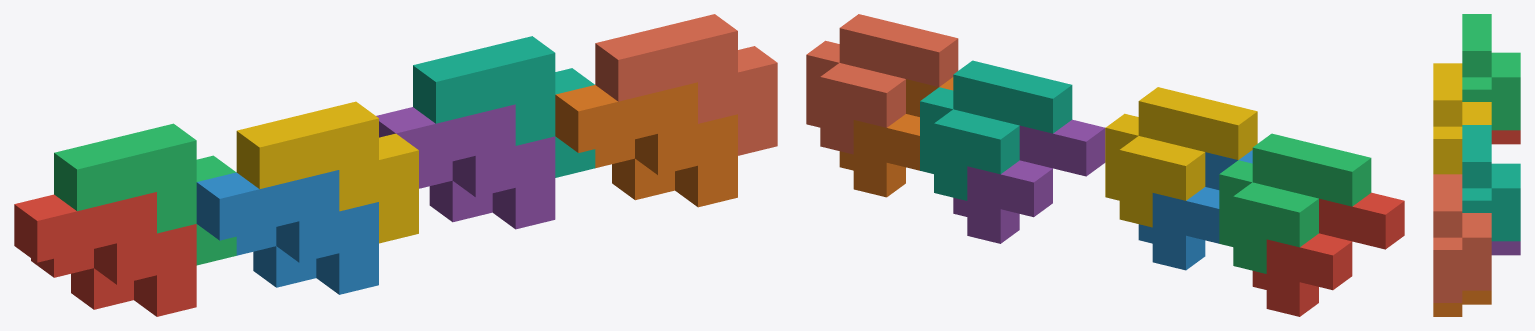
Rendered from tiling.obj.
The picture shows the model from 3 angles, left to right: view 1: azimuth 30°, elevation 25°; view 2: azimuth 150°, elevation 25°; view 3: azimuth 270°, elevation 25°; orthographic projection. The views are drawn at different scales.
Visible parts, largest first — view 1: copy_1_domain_1, copy_1_domain_2, copy_1_domain_6, copy_1_domain_4, copy_1_domain_8, copy_1_domain_5, copy_1_domain_7, copy_1_domain_3; view 2: copy_1_domain_4, copy_1_domain_7, copy_1_domain_3, copy_1_domain_8, copy_1_domain_1, copy_1_domain_5, copy_1_domain_2, copy_1_domain_6; view 3: copy_1_domain_8, copy_1_domain_3, copy_1_domain_7, copy_1_domain_4, copy_1_domain_6, copy_1_domain_1, copy_1_domain_5.
Part boxes in pixels (x1,y1,x2,y2): copy_1_domain_1: (14, 192, 196, 316); copy_1_domain_2: (196, 170, 378, 294); copy_1_domain_6: (555, 82, 737, 207); copy_1_domain_4: (236, 101, 418, 243); copy_1_domain_8: (595, 14, 777, 155); copy_1_domain_5: (376, 104, 555, 229); copy_1_domain_7: (413, 36, 595, 177); copy_1_domain_3: (54, 123, 236, 265); copy_1_domain_4: (1105, 87, 1257, 227); copy_1_domain_7: (920, 60, 1072, 200); copy_1_domain_3: (1219, 133, 1371, 273); copy_1_domain_8: (806, 14, 958, 154); copy_1_domain_1: (1252, 192, 1404, 316); copy_1_domain_5: (953, 119, 1105, 243); copy_1_domain_2: (1138, 150, 1252, 270); copy_1_domain_6: (839, 77, 953, 197); copy_1_domain_8: (1433, 174, 1491, 302); copy_1_domain_3: (1462, 14, 1520, 130); copy_1_domain_7: (1462, 125, 1520, 241); copy_1_domain_4: (1433, 63, 1491, 174); copy_1_domain_6: (1433, 290, 1491, 316); copy_1_domain_1: (1491, 130, 1520, 144); copy_1_domain_5: (1491, 241, 1520, 255).
Size of the model in its own units: 18 by 4 by 3.
